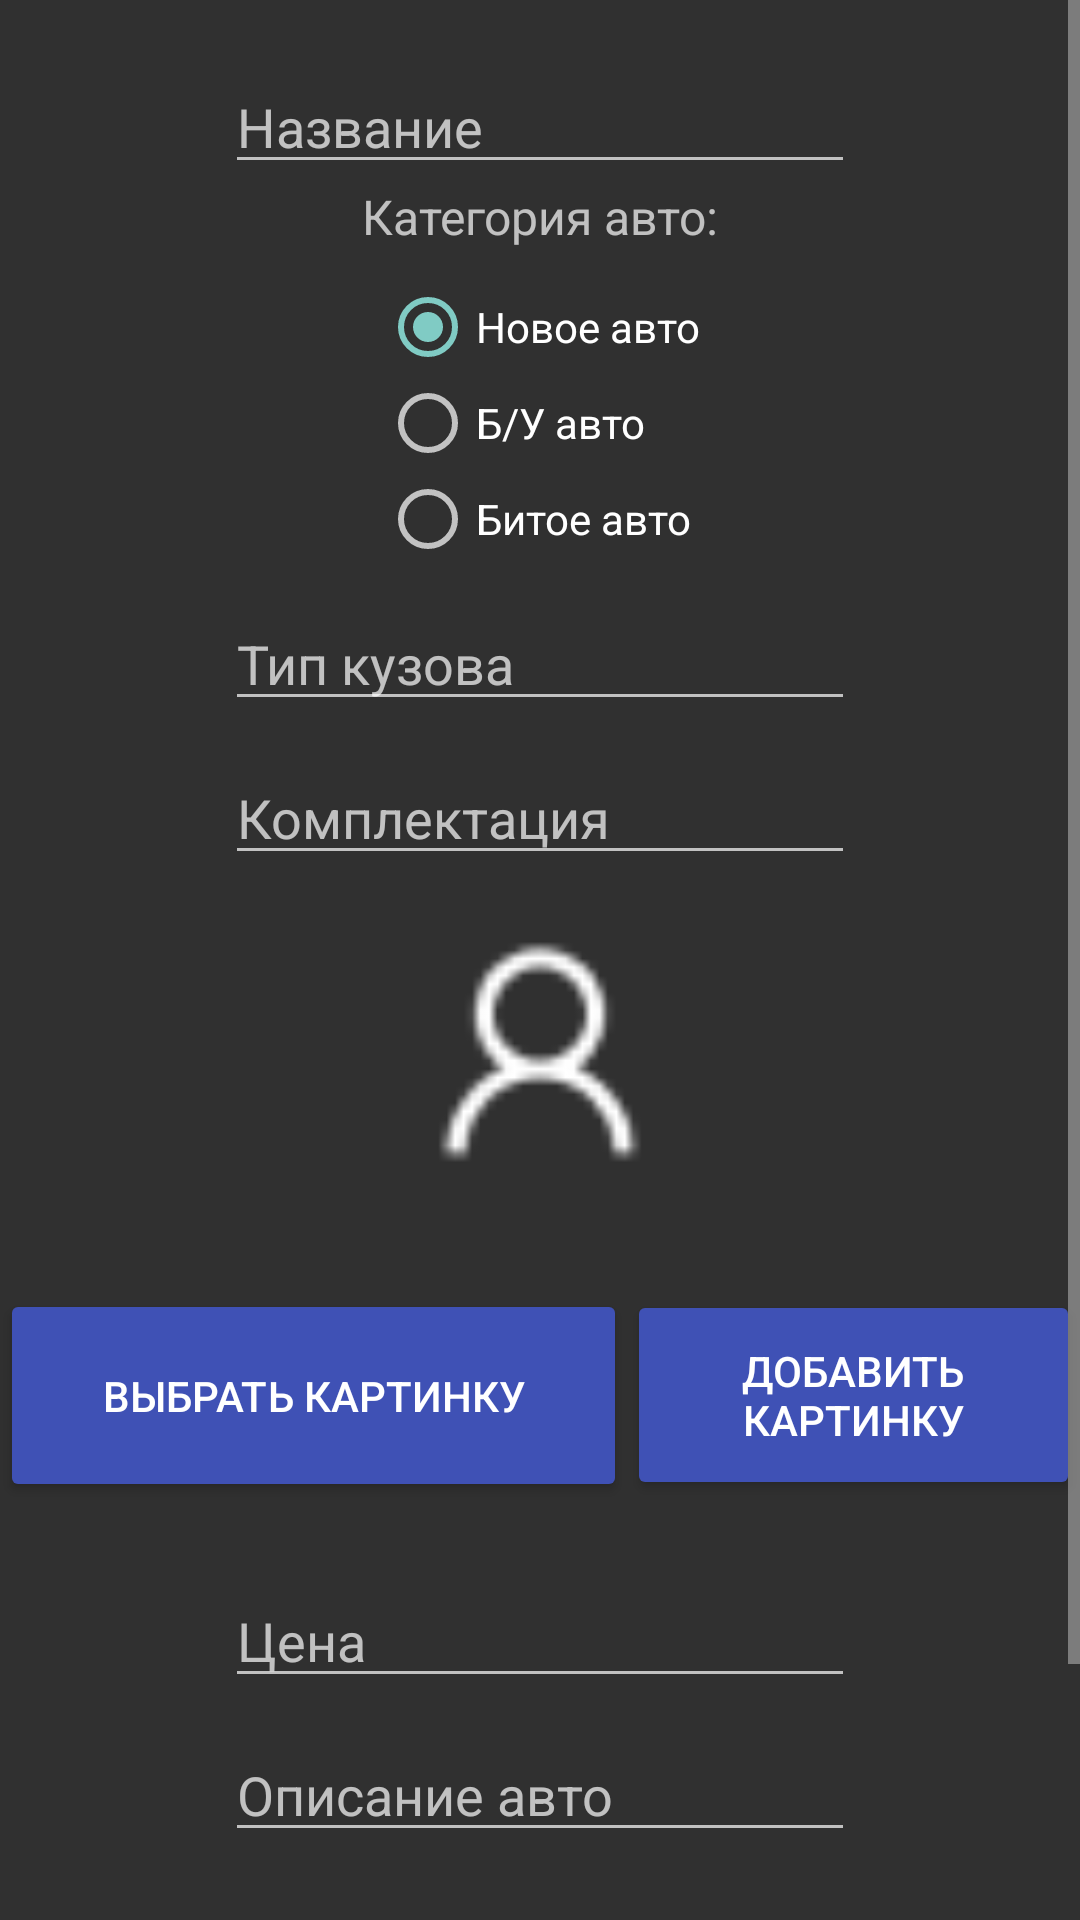

Screen size 1080px x 1920px. Icon name, then its center in pixels as (x=x, y=y):
contacts: (x=539, y=1051)
